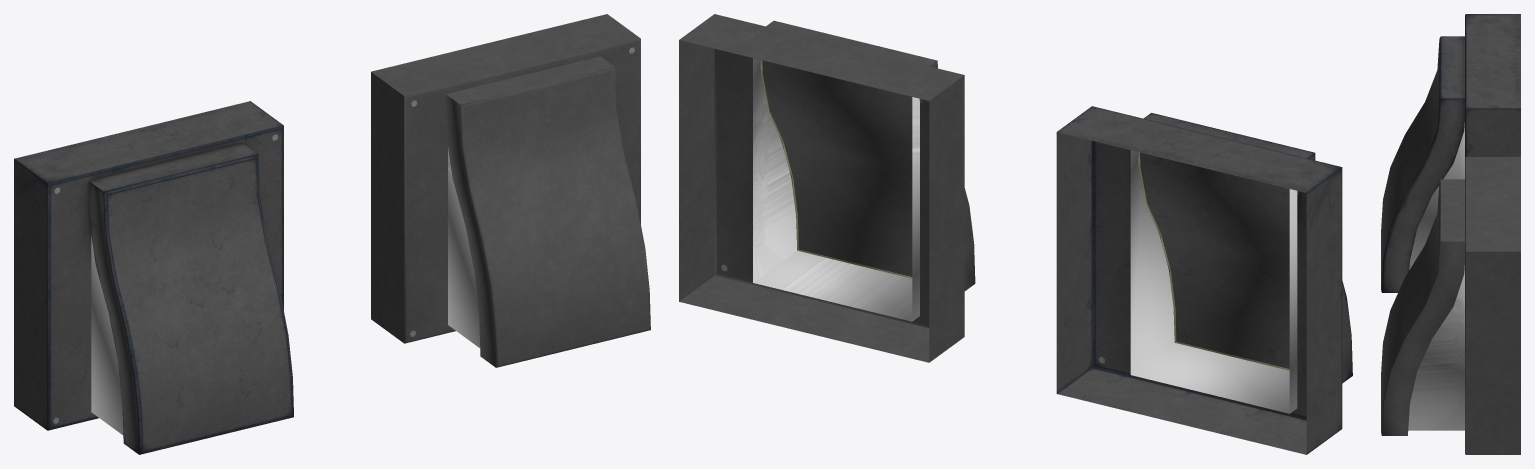
File: Outdoor Wall Light - Boston - PACKED (free low pack).fbx
3 renders of one model, left to right at view 1: azimuth 30°, elevation 25°; view 2: azimuth 150°, elevation 25°; view 3: azimuth 270°, elevation 25°, orthographic. The views are drawn at different scales.
Visible parts, largest first — view 1: OutsideLamp_02.low.dmg, OutsideLamp_02.low.clean, OutsideLamp_02.lightSource.low.001, OutsideLamp_02.lightSource.low; view 2: OutsideLamp_02.low.dmg, OutsideLamp_02.low.clean, OutsideLamp_02.lightSource.low.001, OutsideLamp_02.lightSource.low; view 3: OutsideLamp_02.low.clean, OutsideLamp_02.low.dmg, OutsideLamp_02.lightSource.low, OutsideLamp_02.lightSource.low.001.
Part boxes in pixels (left/top/right/bottom): OutsideLamp_02.low.dmg: left=14, top=101, right=293, bottom=454; OutsideLamp_02.low.clean: left=371, top=14, right=650, bottom=367; OutsideLamp_02.lightSource.low.001: left=91, top=236, right=123, bottom=434; OutsideLamp_02.lightSource.low: left=448, top=148, right=480, bottom=348; OutsideLamp_02.low.dmg: left=1056, top=106, right=1352, bottom=454; OutsideLamp_02.low.clean: left=679, top=14, right=975, bottom=362; OutsideLamp_02.lightSource.low.001: left=1130, top=150, right=1297, bottom=413; OutsideLamp_02.lightSource.low: left=753, top=58, right=919, bottom=321; OutsideLamp_02.low.clean: left=1381, top=157, right=1520, bottom=454; OutsideLamp_02.low.dmg: left=1381, top=14, right=1520, bottom=292; OutsideLamp_02.lightSource.low: left=1408, top=266, right=1464, bottom=430; OutsideLamp_02.lightSource.low.001: left=1409, top=123, right=1464, bottom=269.
Size of the model in its own units: 100 by 40 by 24.94.
